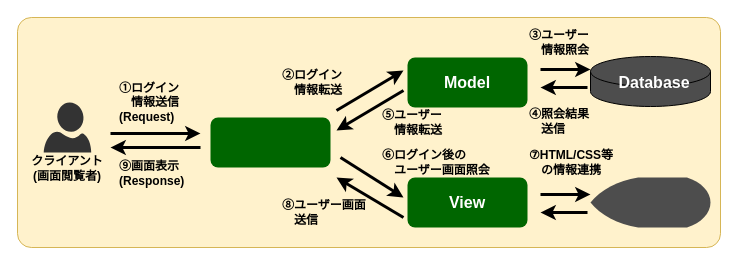
Some shapes in this 738 by 265 pixel diagram are drawn without their labels. The shapes that lost their labels are listed below. From the top down, each one's centre as x and y in pixels, then its label:
At [270,142]: "Controller".
At [650,202]: "画面表示".
